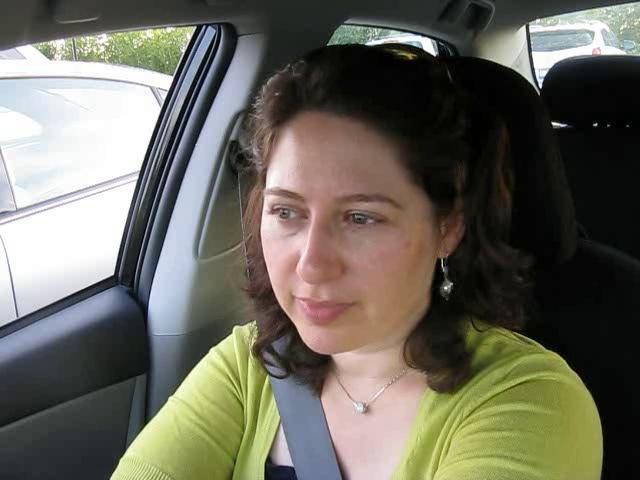no_yawn: (276, 286, 369, 326)
open_eyeL: (254, 193, 310, 232)
open_eyeR: (330, 200, 402, 236)
